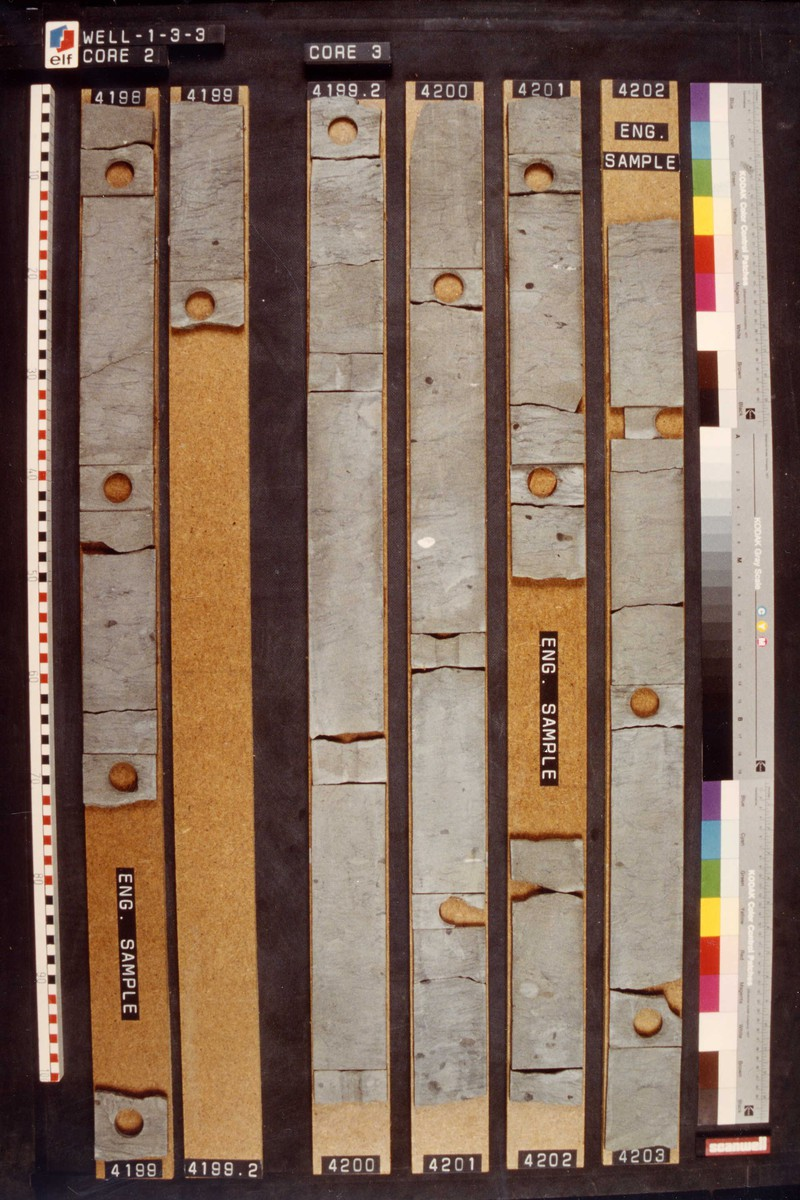core: (305, 96, 391, 1108), (408, 103, 489, 1104), (604, 216, 687, 1147), (79, 104, 160, 810), (505, 96, 588, 589), (508, 832, 589, 1108), (167, 100, 245, 332), (92, 1085, 173, 1159)
